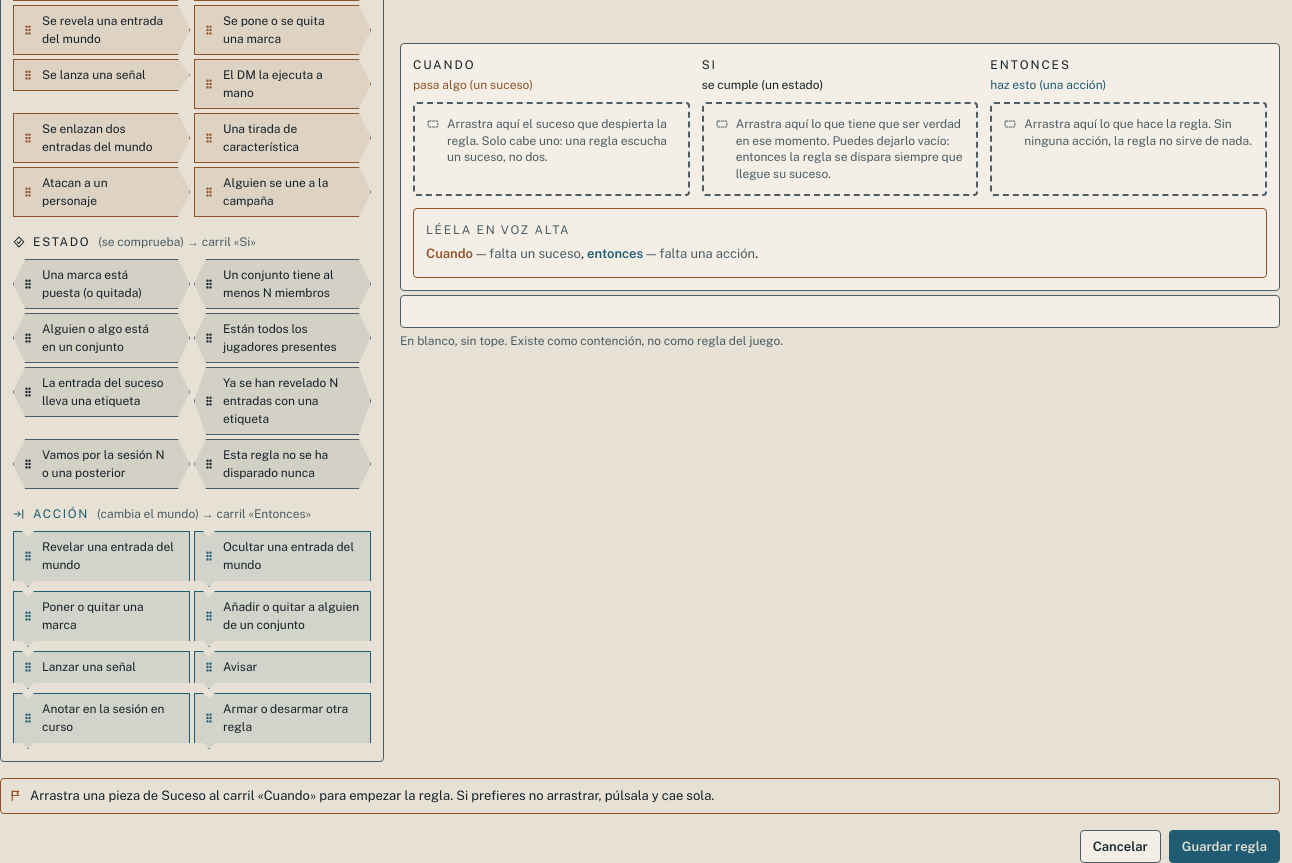
el editor de reglas por carriles › lo que falta se cuenta por carriles y en español, no con el mensaje crudo de Zod
(page scrolled)
Click the button "Guardar regla" at (1224, 847), box [1169, 830, 1280, 862]
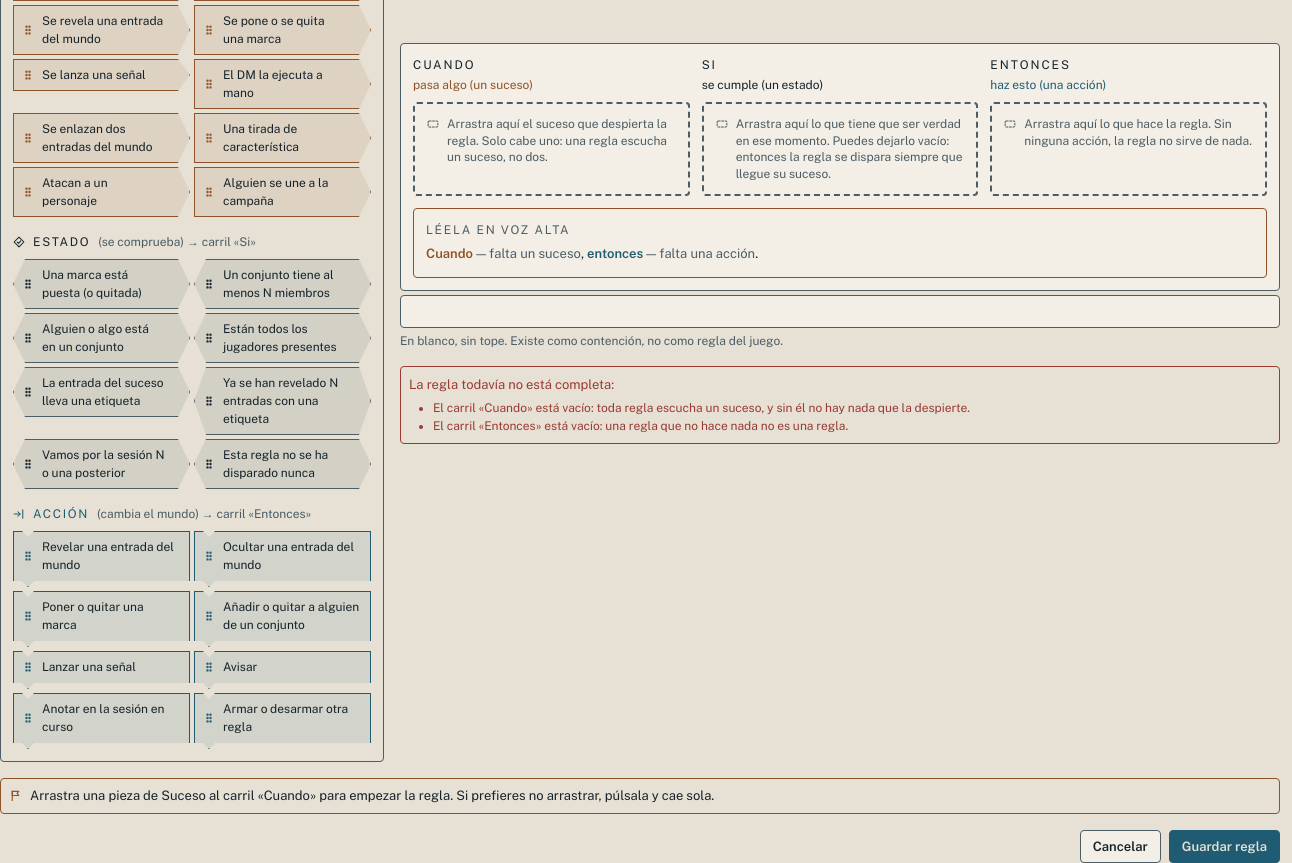
Expected: the message does not show "Required", [400, 366, 1280, 444]
Expected: the message shows "El carril «Cuando» está vacío", [433, 400, 970, 414]
Expected: the message shows "El carril «Entonces» está vacío", [433, 418, 848, 432]
